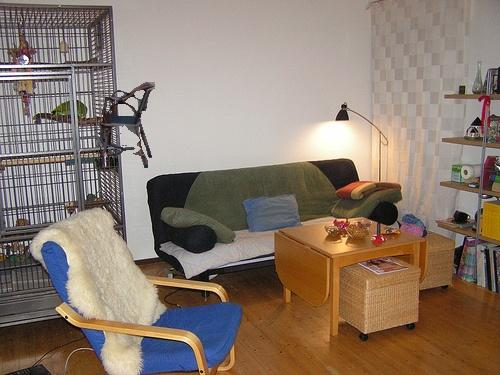tampered: (100, 83, 155, 168)
